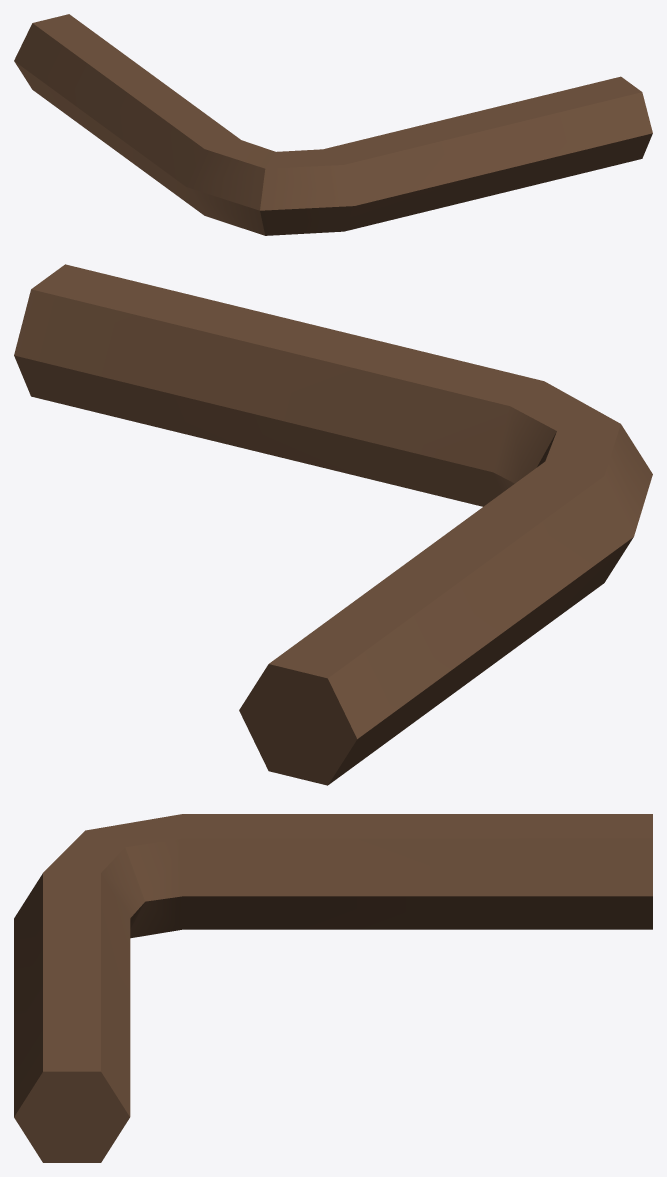
File: SM_Prop_DownPipe_Corner_01.glb
3 views of the same model, one above another, from view 1: azimuth 30°, elevation 25°; view 2: azimuth 150°, elevation 25°; view 3: azimuth 270°, elevation 25° (orthographic). The views are drawn at different scales.
Visible parts, largest first — view 1: SM_Prop_DownPipe_Corner_01; view 2: SM_Prop_DownPipe_Corner_01; view 3: SM_Prop_DownPipe_Corner_01.
Part boxes in pixels (bbox=[...]): SM_Prop_DownPipe_Corner_01: bbox=[14, 14, 652, 235]; SM_Prop_DownPipe_Corner_01: bbox=[14, 264, 652, 785]; SM_Prop_DownPipe_Corner_01: bbox=[14, 814, 652, 1162].
Size of the model in its own units: 1.1 by 0.1745 by 1.1.
Materials: 1 (1 with a texture image).
